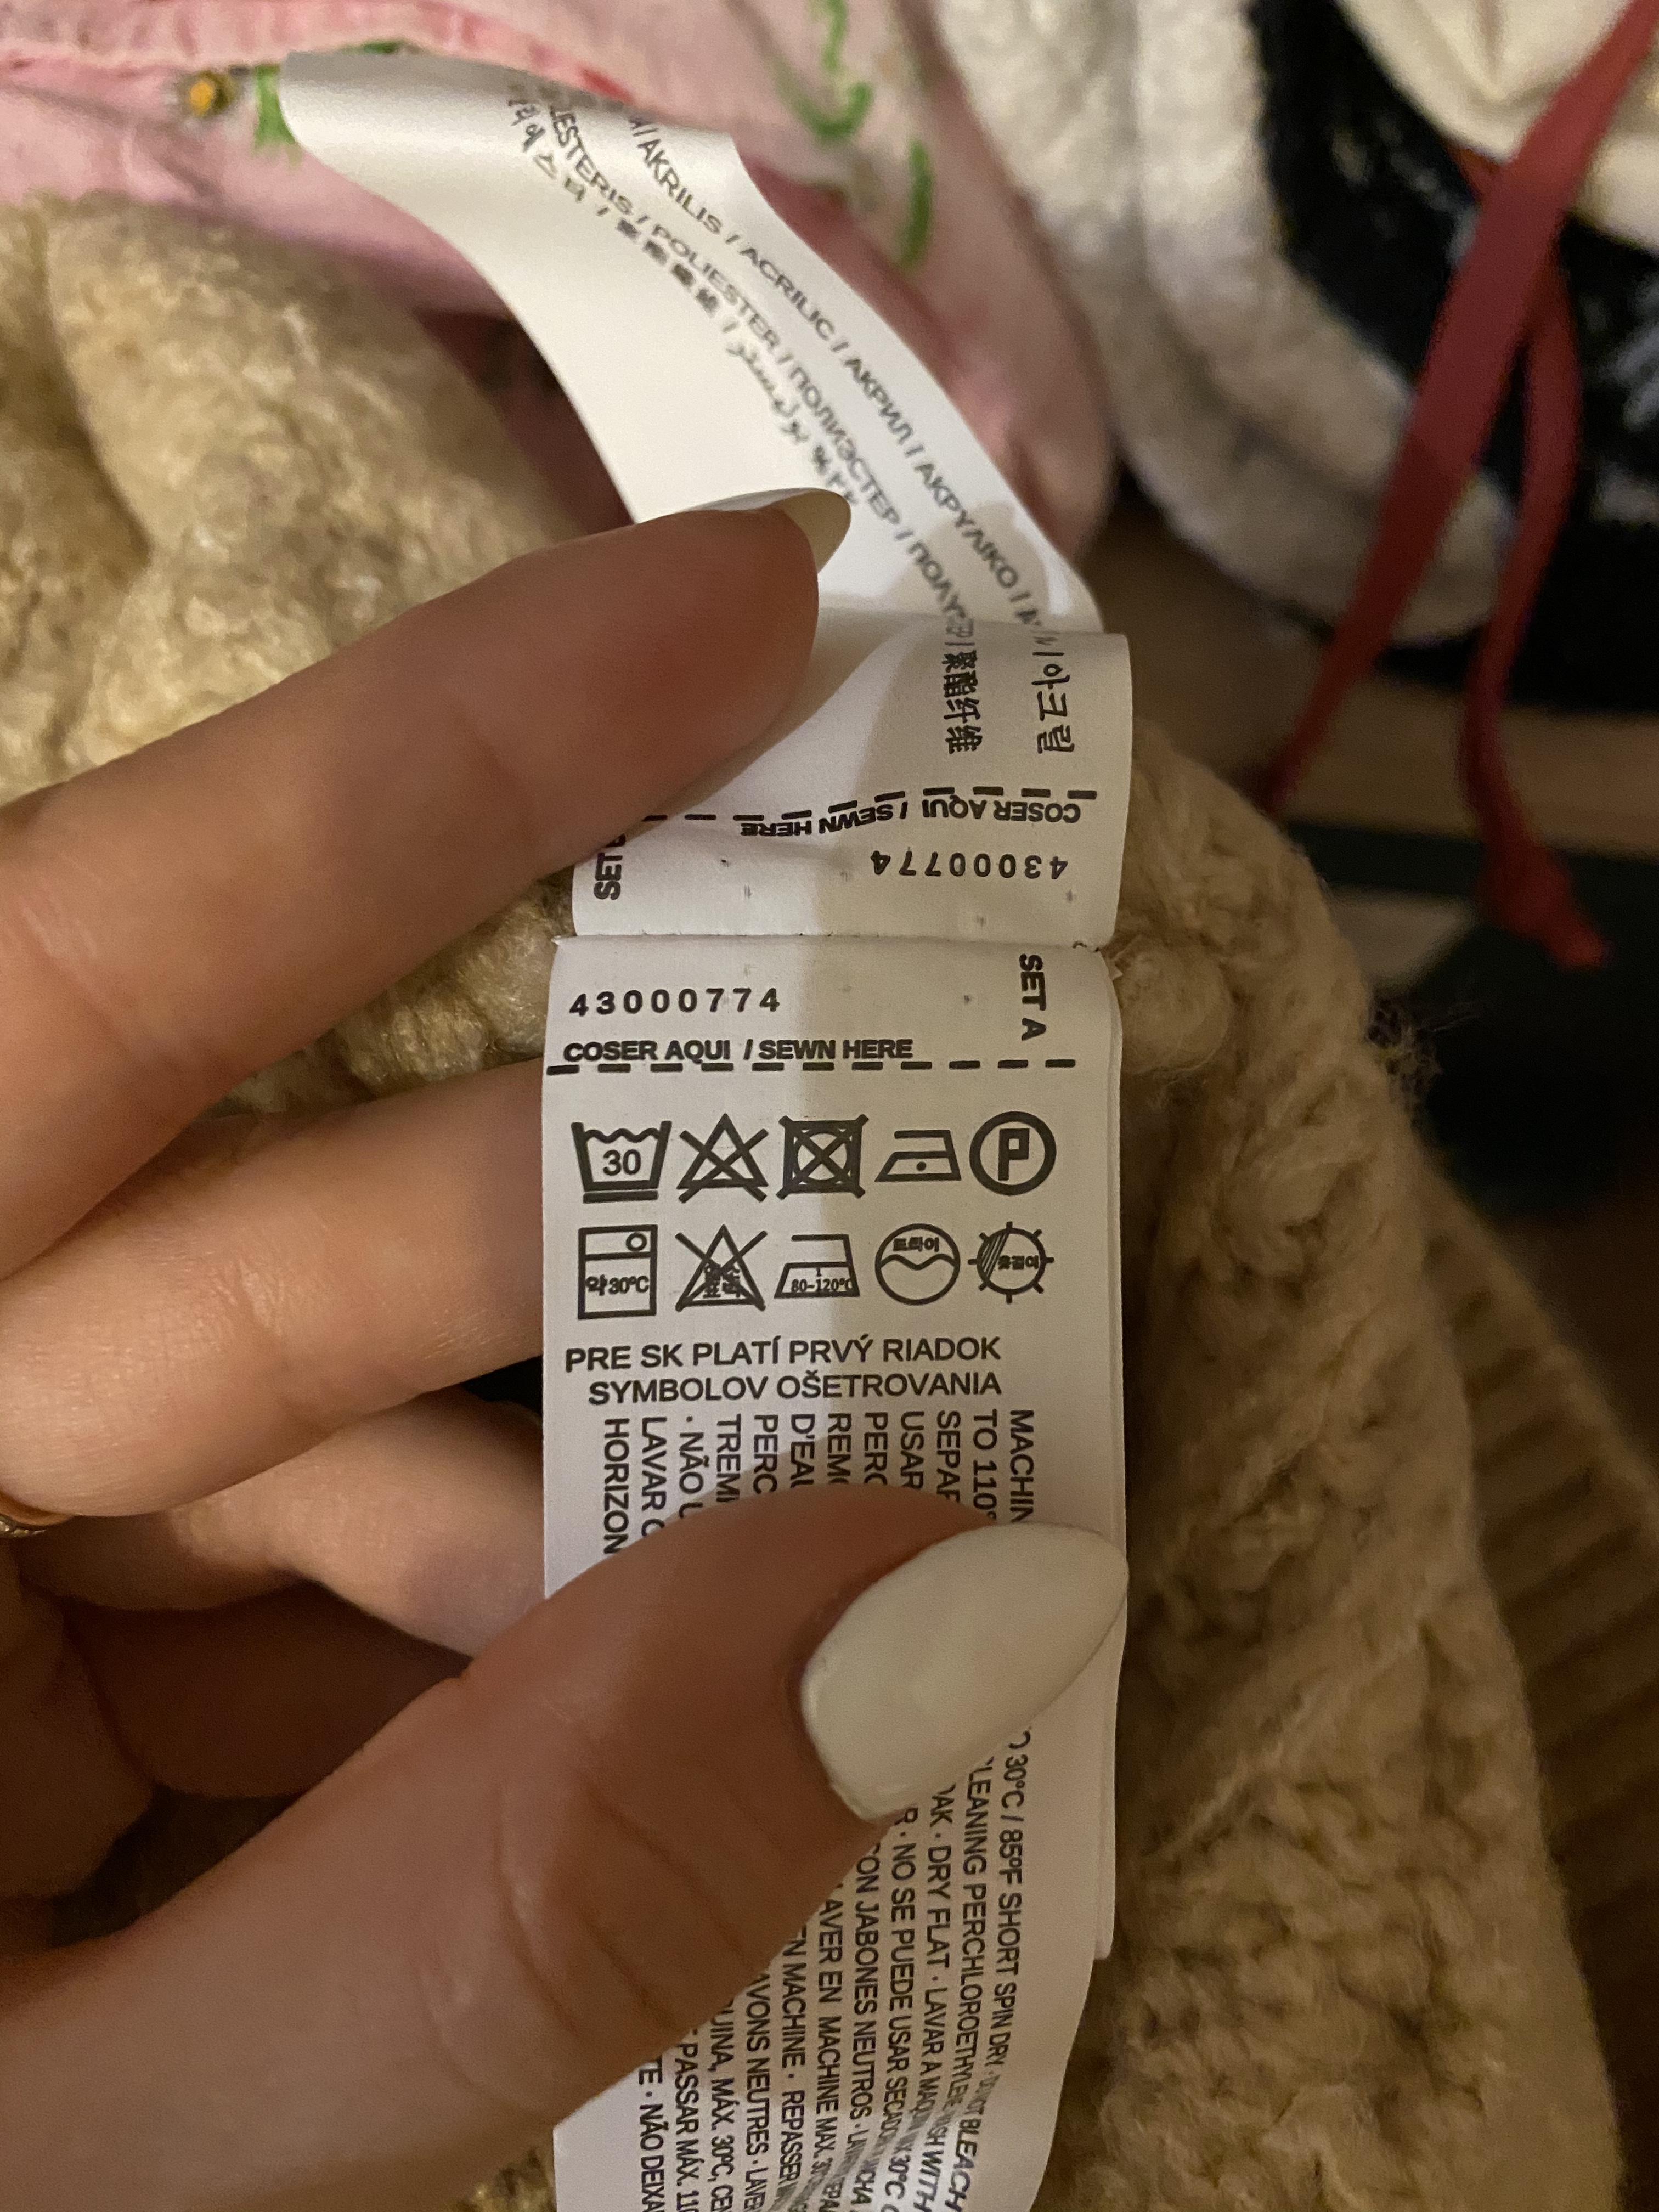do_not_bleach: (676, 1108, 775, 1211)
do_not_tumble_drying: (775, 1106, 871, 1209)
dry_clean_tetrachloroethylene_pce_only: (964, 1104, 1060, 1202)
ironing_at_low_temp: (873, 1116, 964, 1198)
wash_at_or_below_30_mild_fine_wash: (568, 1111, 678, 1209)
